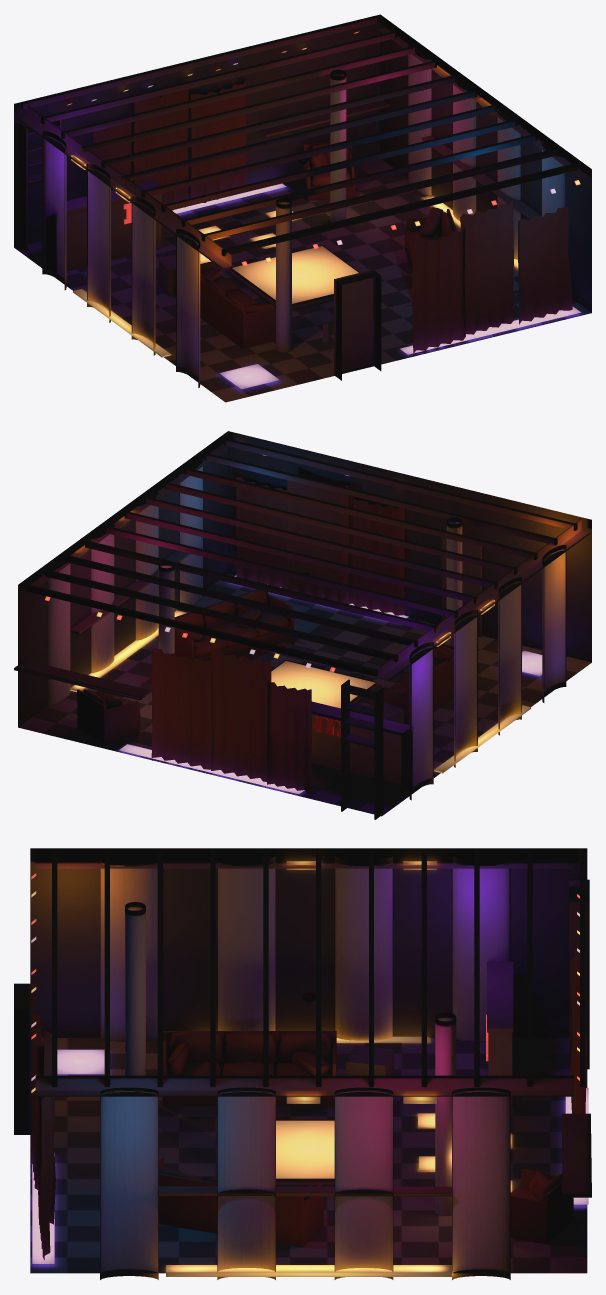
File: set.glb
The picture shows the model from 3 angles, top to bottom: view 1: azimuth 30°, elevation 25°; view 2: azimuth 150°, elevation 25°; view 3: azimuth 270°, elevation 25°; orthographic projection. The views are drawn at different scales.
Visible parts, largest first — view 1: Cube.020, room.002, room.001, Cylinder, Grid, Grid.001, Cube.014, Cube.003, floorlight, Cube.001, Cube.004, Plane.002 (+10 smaller); view 2: Cube.020, room.002, Cylinder, room.001, Grid.001, Grid, Cube.001, Cube.003, Cube.017, Cube.022, floorlight, Cube.019 (+11 smaller); view 3: Cylinder, room.002, room.001, Cube.020, Cube.002, Plane.004, Cube.013, Grid, Cube.006, Cylinder.001, floorlight, Cylinder.002 (+13 smaller).
Part boxes in pixels (x1,y1,x2,y2): Cube.020: (21,16,577,256); room.002: (14,14,591,312); room.001: (14,159,591,402); Cylinder: (42,42,565,387); Grid: (412,199,572,356); Grid.001: (93,79,246,210); Cube.014: (323,269,381,380); Cube.003: (18,105,231,268); floorlight: (232,246,358,303); Cube.001: (66,179,161,271); Cube.004: (200,261,275,348); Plane.002: (172,183,580,389); Cube.020: (25,438,577,676); room.002: (18,431,591,727); Cylinder: (47,456,566,800); room.001: (18,574,591,816); Grid.001: (151,648,311,793); Grid: (236,474,404,615); Cube.001: (311,701,409,792); Cube.003: (379,519,590,681); Cube.017: (341,679,383,819); Cube.022: (77,689,140,743); floorlight: (271,661,375,708); Cube.019: (14,660,151,700); Cylinder: (100,856,510,1279); room.002: (30,848,587,1037); room.001: (30,1038,587,1273); Cube.020: (52,852,585,1086); Cube.002: (35,1075,573,1096); Plane.004: (166,861,512,1276); Cube.013: (158,1158,323,1247); Grid: (31,1011,55,1260); Cube.006: (169,1031,331,1062); Cylinder.001: (125,902,145,1075); floorlight: (276,1120,334,1178); Cylinder.002: (435,1012,456,1215).
Bounding box in the file's own units: 8.09 × 3.38 × 8.3.
Materials: 1 (1 with a texture image).
